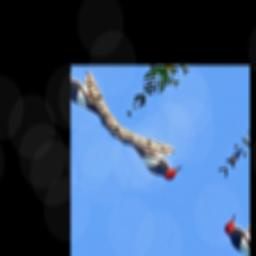Woodpecker: (116, 121, 189, 195)
